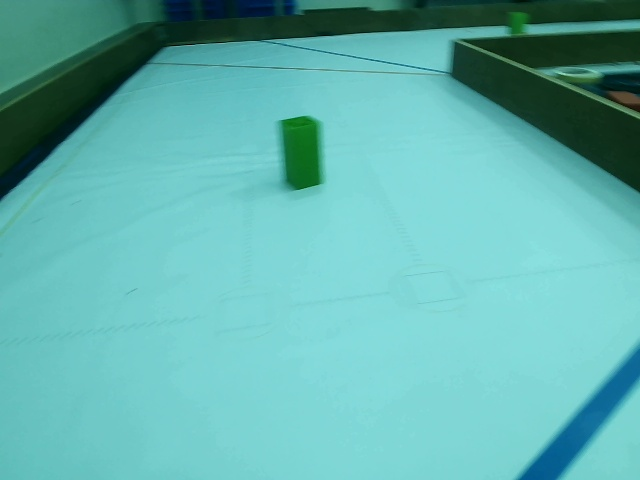green: (286, 121, 322, 188)
